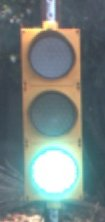Green: (17, 11, 105, 214)
